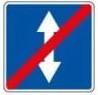road_sign: (2, 0, 96, 93)
